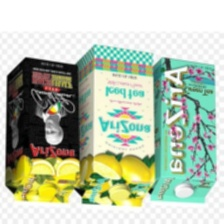carton: (74, 44, 159, 209), (3, 53, 82, 209), (152, 59, 220, 209)
